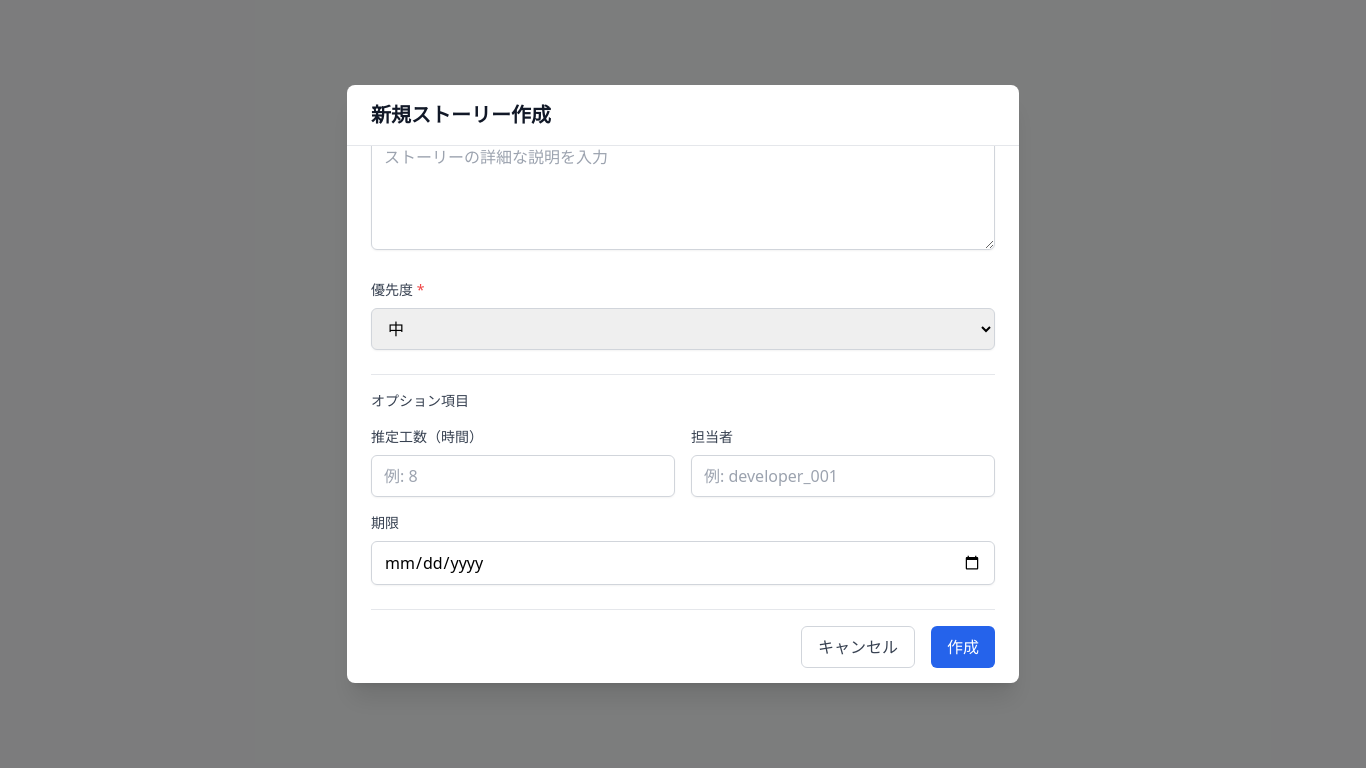
Test: Story Integration Tests - Critical Paths › Manual Creation Flow › shows validation error when required fields are empty
(page scrolled)
何も入力せずに作成ボタンをクリック
Click the button "作成" at (963, 647), box top-left (931, 626), bottom-right (995, 668)
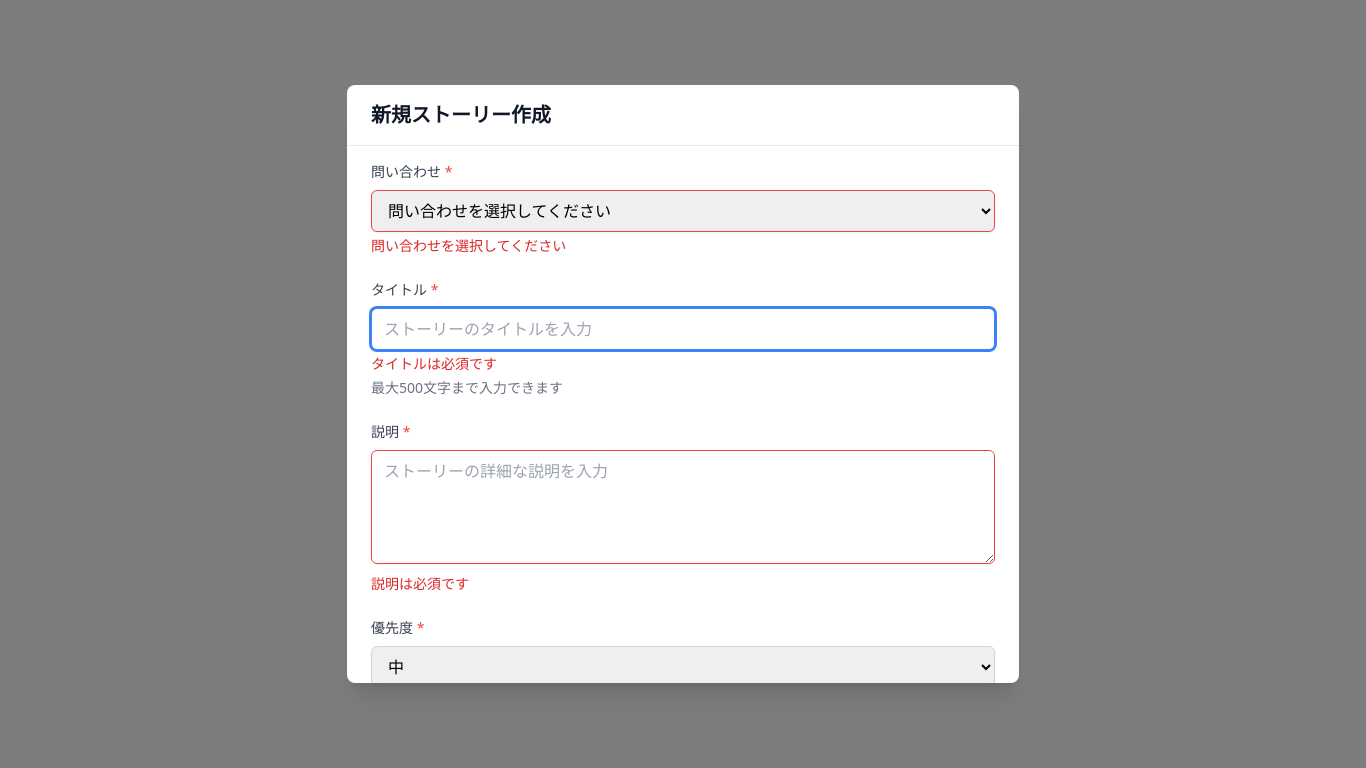
Check: the text "タイトルは必須です" is shown, box top-left (371, 354), bottom-right (497, 373)
Check: the text "説明は必須です" is shown, box top-left (371, 574), bottom-right (469, 593)
